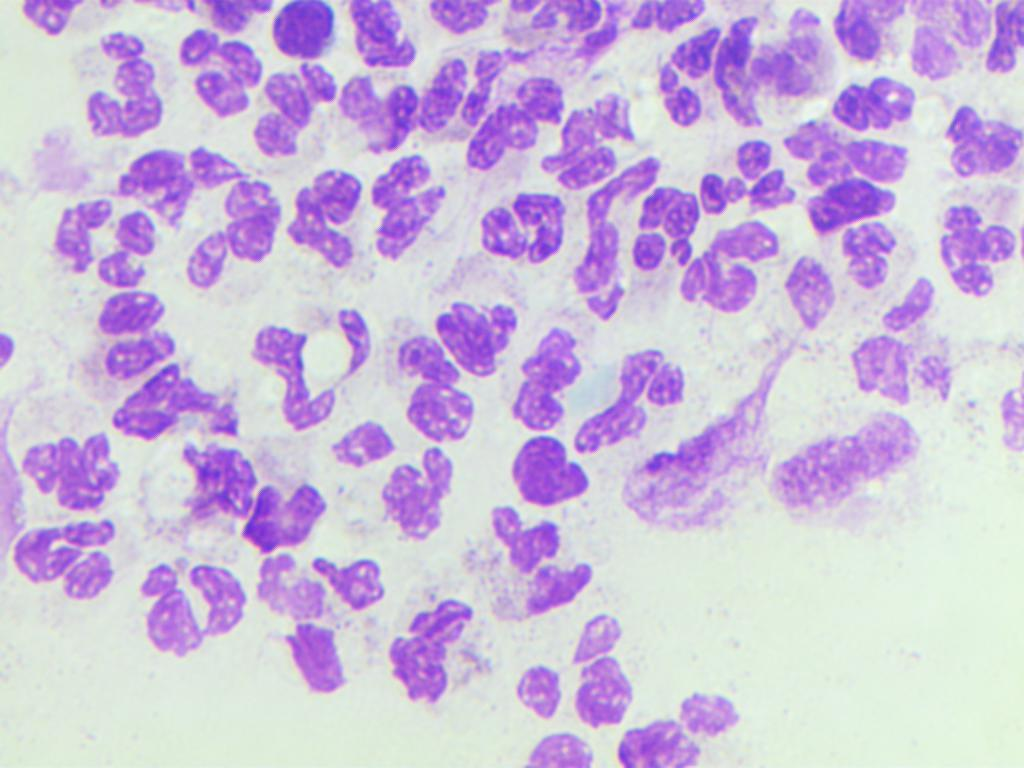epithelial: (769, 414, 927, 542)
lymphocyte: (488, 435, 612, 520), (229, 467, 326, 561)
neutrophil: (235, 304, 396, 450), (459, 502, 612, 626), (771, 112, 918, 240), (498, 612, 653, 730), (260, 558, 382, 699), (361, 142, 466, 292), (381, 574, 484, 720), (183, 166, 290, 302), (97, 364, 258, 452), (100, 141, 245, 238), (572, 340, 695, 454), (710, 14, 833, 126), (63, 30, 174, 152), (433, 248, 532, 378), (539, 96, 660, 202), (499, 306, 590, 446), (49, 180, 164, 290), (611, 676, 746, 768), (285, 162, 374, 300), (139, 552, 254, 656), (933, 176, 1024, 304), (15, 426, 133, 524), (631, 160, 718, 290), (392, 318, 480, 446), (169, 12, 264, 128), (251, 52, 344, 170), (373, 446, 472, 556), (678, 215, 788, 312), (167, 432, 276, 526), (647, 30, 736, 142), (702, 135, 809, 224), (934, 95, 1024, 199), (411, 46, 516, 132), (87, 290, 183, 378), (11, 517, 117, 596), (340, 61, 423, 158), (817, 74, 934, 140), (838, 216, 916, 311), (477, 188, 566, 261), (337, 1, 437, 63), (270, 0, 343, 58)
